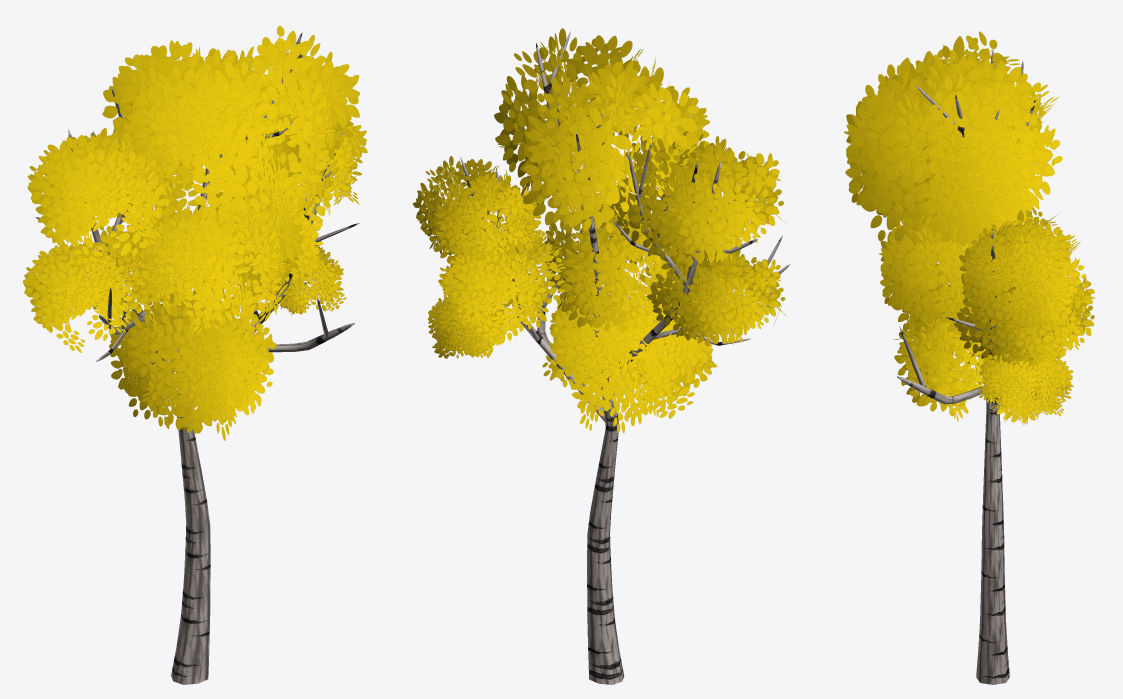
Rendered from tree_birch_2.glb.
3 renders of one model, left to right at view 1: azimuth 30°, elevation 25°; view 2: azimuth 150°, elevation 25°; view 3: azimuth 270°, elevation 25°, orthographic. The views are drawn at different scales.
Parts seen in each view (by area): view 1: BirchTree_3; view 2: BirchTree_3; view 3: BirchTree_3.
Part boxes in pixels (x1,y1,x2,y2): BirchTree_3: (23, 26, 367, 684); BirchTree_3: (413, 28, 790, 684); BirchTree_3: (844, 31, 1095, 684).
Size of the model in its own units: 3.43 by 5.75 by 2.27.
Materials: 2 (2 with a texture image).
